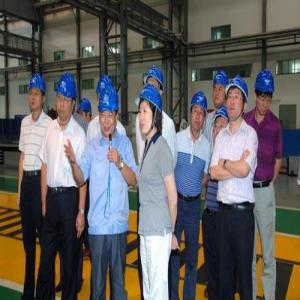blue: (138, 86, 163, 138), (99, 86, 120, 139), (226, 77, 249, 122), (56, 74, 77, 122), (255, 70, 275, 116), (29, 72, 47, 116), (191, 92, 208, 133), (212, 71, 229, 107), (145, 69, 165, 97), (213, 108, 229, 138), (79, 99, 94, 127)
